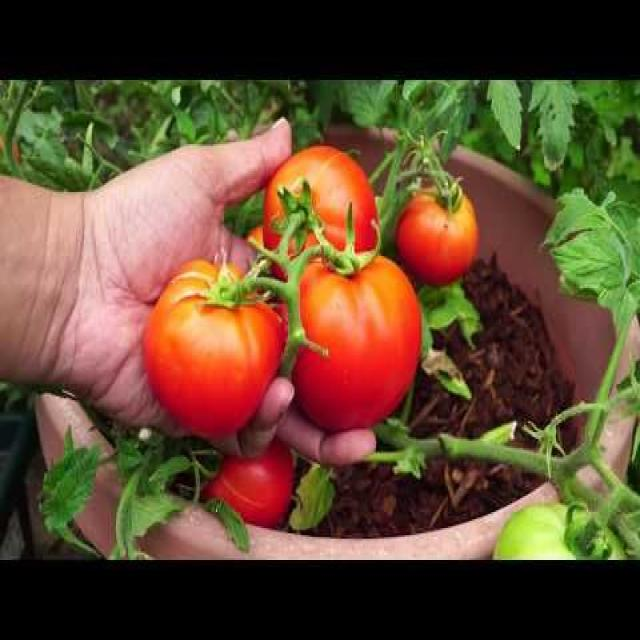level 5: (275, 248, 421, 426), (147, 258, 276, 437), (261, 140, 381, 289), (398, 187, 481, 288)
level 6: (192, 424, 298, 537)
